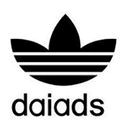adidas Fake: (6, 12, 118, 116)
